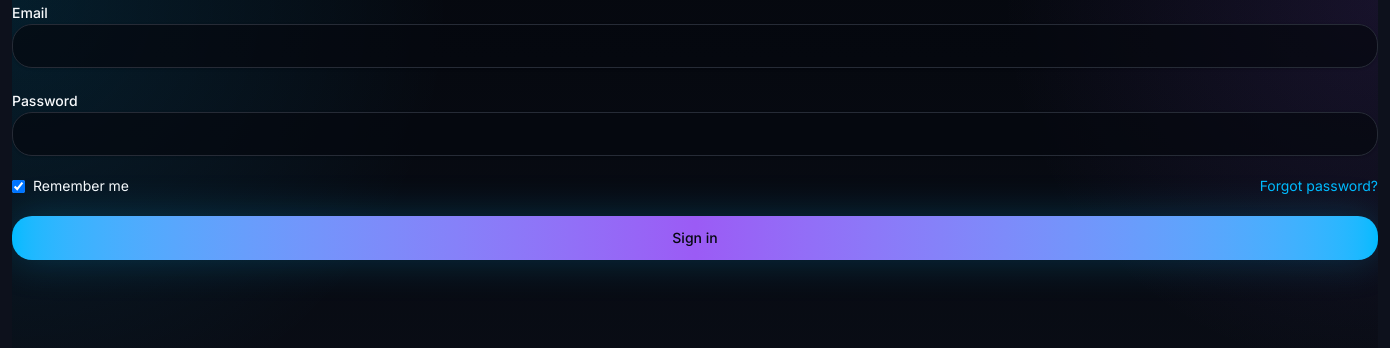
Test: LoginForm › shows validation errors for invalid credentials
Click the button "Sign in" at (695, 238), box [12,216,1378,260]
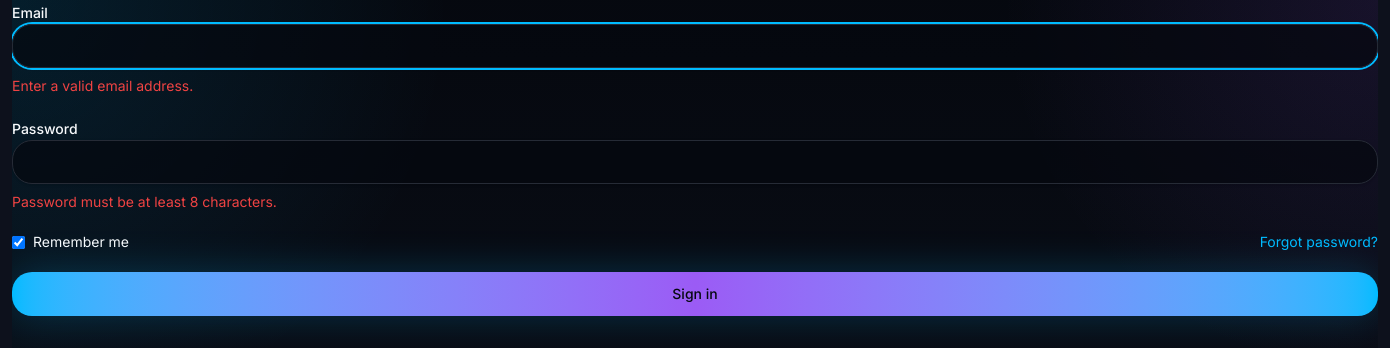
Result: the text "Enter a valid email address." is shown at [12,77,193,94]
